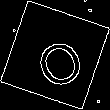O_NW: (24, 22, 86, 88)
